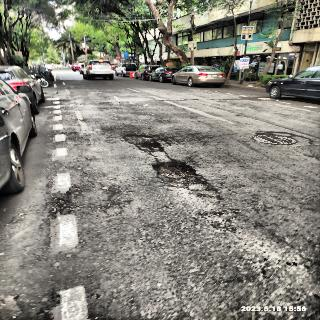pothole: (150, 160, 207, 186), (120, 133, 166, 153)
